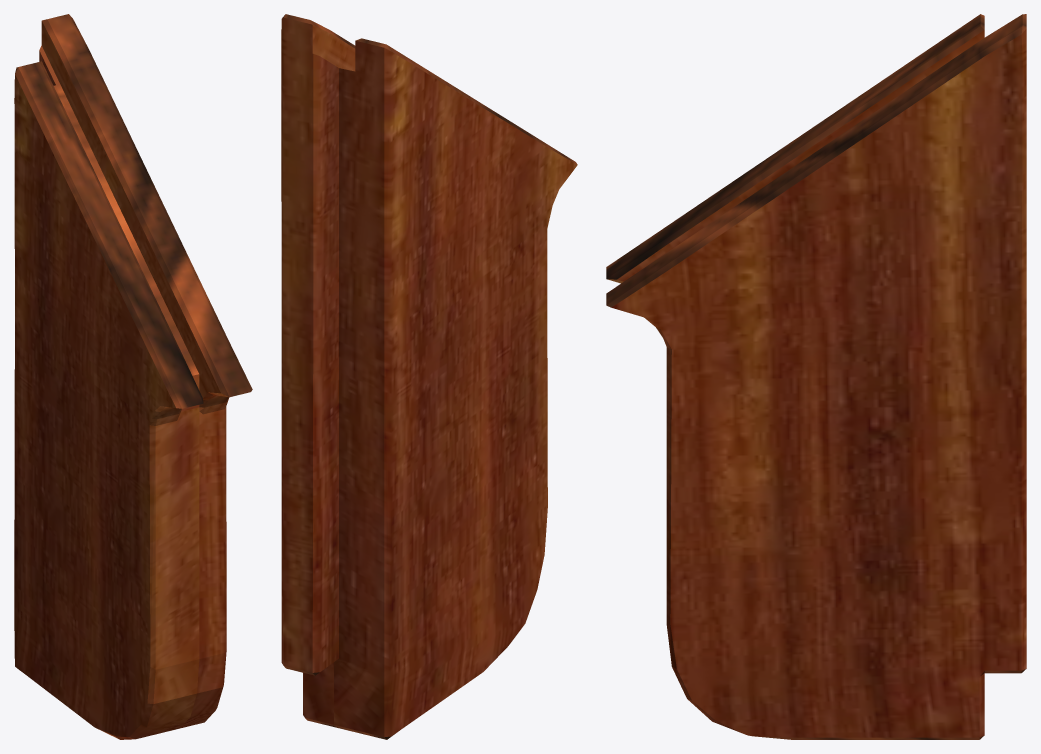
Rendered from SJ_J_yatou_03.FBX.
3 renders of one model, left to right at view 1: azimuth 30°, elevation 25°; view 2: azimuth 150°, elevation 25°; view 3: azimuth 270°, elevation 25°, orthographic. The views are drawn at different scales.
Visible parts, largest first — view 1: SJ_J_yatou_03; view 2: SJ_J_yatou_03; view 3: SJ_J_yatou_03.
Part boxes in pixels (box(x1,y1,x2,y2)): SJ_J_yatou_03: box(14, 14, 252, 739); SJ_J_yatou_03: box(281, 14, 577, 739); SJ_J_yatou_03: box(606, 14, 1026, 739).
Size of the model in its own units: 1.21 by 9.37 by 5.
2 materials, 2 textured.
